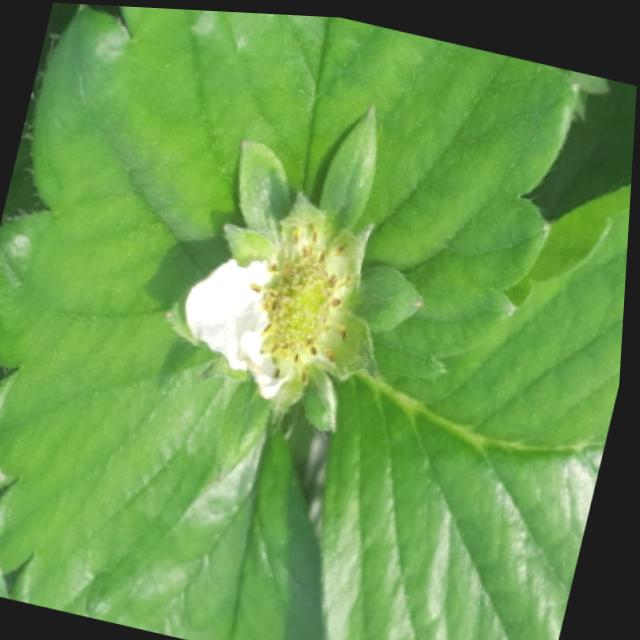Blossom Blight: (248, 198, 359, 387)
